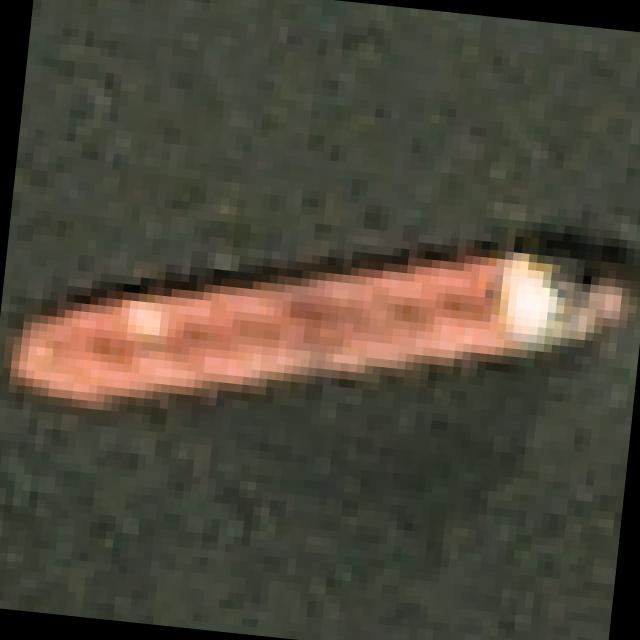ship: (0, 140, 640, 509)
